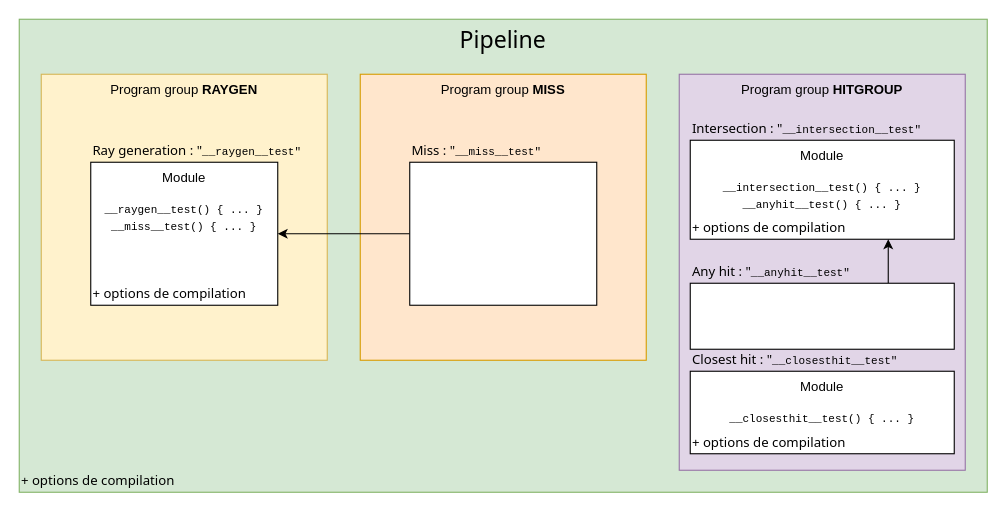
This 1007x512 diagram has some shape labels left out. Here are the shapes that lost their labels. From the top down, the centre of each, then its label:
At point 503,233: "Peut référencer un autre module".
At point 821,315: "Peut référencer un autre module (même d'un autre program group)".
